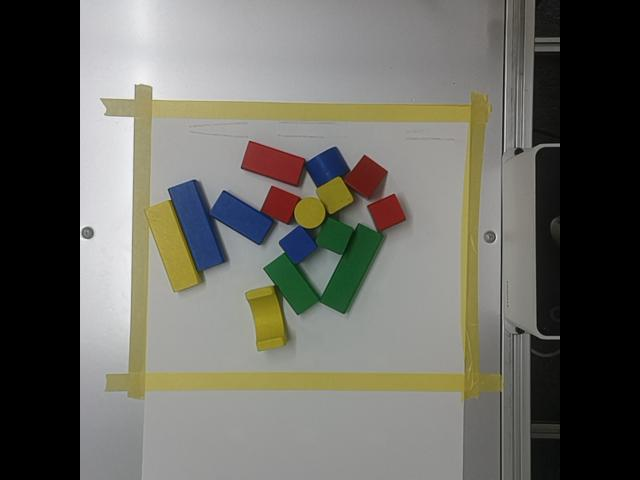blue_cube: (279, 226, 316, 263)
blue_longrect: (169, 180, 226, 270)
blue_rect: (210, 190, 274, 244)
cylinder: (294, 197, 326, 228)
green_cube: (316, 217, 353, 254)
green_longrect: (320, 224, 381, 312)
green_rect: (264, 253, 318, 314)
half_cylinder: (246, 286, 287, 349), (306, 147, 349, 186)
red_cube: (261, 186, 300, 223), (367, 194, 405, 230)
red_rect: (241, 141, 305, 186)
triangle: (345, 155, 387, 198)
yellow_cube: (316, 177, 353, 213)
yellow_longrect: (145, 200, 201, 290)
